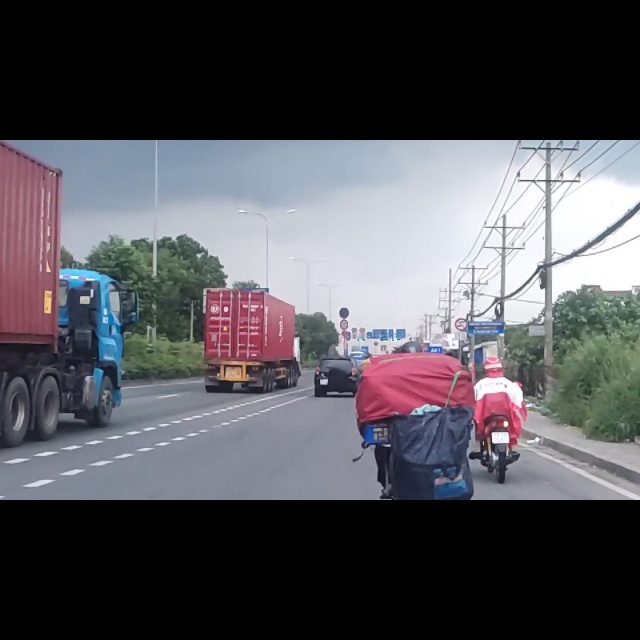bien_nguy_hiem: (455, 316, 468, 341), (339, 297, 350, 316)
